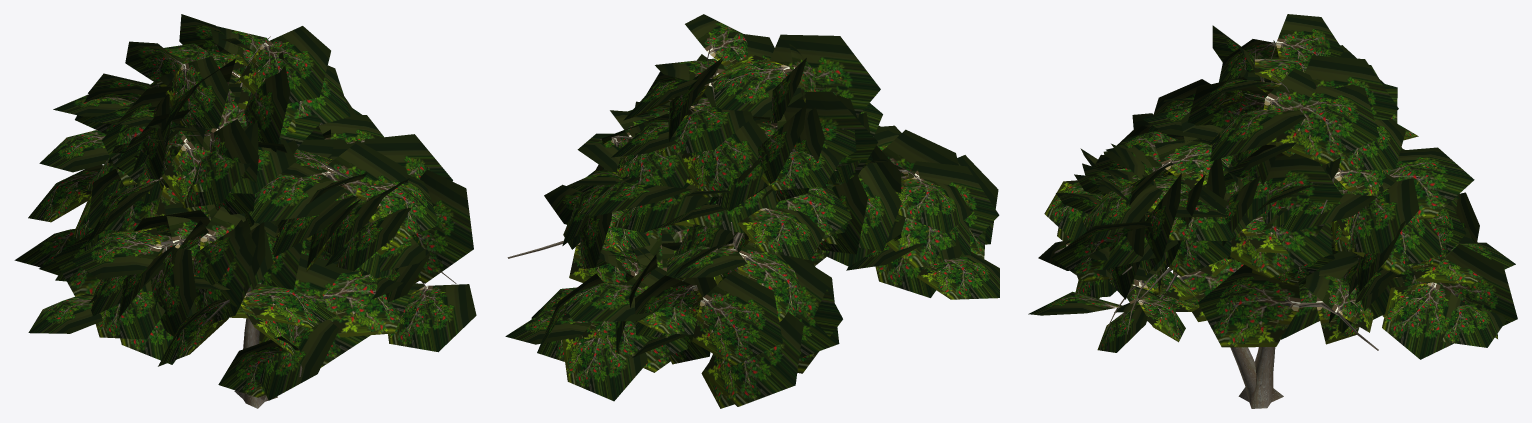
File: holly.glb
3 renders of one model, left to right at view 1: azimuth 30°, elevation 25°; view 2: azimuth 150°, elevation 25°; view 3: azimuth 270°, elevation 25°, orthographic. The views are drawn at different scales.
Visible parts, largest first — view 1: Holly_Tree_1_Holly_Tree_Mat_0.282, Holly_Tree_1_Holly_Tree_Mat_0.137, Holly_Tree_1_Holly_Tree_Mat_0.270, Holly_Tree_1_Holly_Tree_Mat_0.175, Holly_Tree_1_Holly_Tree_Mat_0.176, Holly_Tree_1_Holly_Tree_Mat_0.193, Holly_Tree_1_Holly_Tree_Mat_0.210, Holly_Tree_1_Holly_Tree_Mat_0.132, Holly_Tree_1_Holly_Tree_Mat_0.214, Holly_Tree_1_Holly_Tree_Mat_0.194, Holly_Tree_1_Holly_Tree_Mat_0.184, Holly_Tree_1_Holly_Tree_Mat_0.192 (+60 smaller); view 2: Holly_Tree_1_Holly_Tree_Mat_0.044, Holly_Tree_1_Holly_Tree_Mat_0.042, Holly_Tree_1_Holly_Tree_Mat_0.135, Holly_Tree_1_Holly_Tree_Mat_0.083, Holly_Tree_1_Holly_Tree_Mat_0.133, Holly_Tree_1_Holly_Tree_Mat_0.105, Holly_Tree_1_Holly_Tree_Mat_0.063, Holly_Tree_1_Holly_Tree_Mat_0.210, Holly_Tree_1_Holly_Tree_Mat_0.172, Holly_Tree_1_Holly_Tree_Mat_0.041, Holly_Tree_1_Holly_Tree_Mat_0.119, Holly_Tree_1_Holly_Tree_Mat_0.058 (+52 smaller); view 3: Holly_Tree_1_Holly_Tree_Mat_0.048, Holly_Tree_1_Holly_Tree_Mat_0.136, Holly_Tree_1_Holly_Tree_Mat_0.080, Holly_Tree_1_Holly_Tree_Mat_0.091, Holly_Tree_1_Holly_Tree_Mat_0.095, Holly_Tree_1_Holly_Tree_Mat_0.243, Holly_Tree_1_Holly_Tree_Mat_0.076, Holly_Tree_1_Holly_Tree_Mat_0.248, Holly_Tree_1_Holly_Tree_Mat_0.139, Holly_Tree_1_Holly_Tree_Mat_0.141, Holly_Tree_1_Holly_Tree_Mat_0.134, Holly_Tree_1_Holly_Tree_Mat_0.194 (+54 smaller).
Part boxes in pixels (box(x1,y1,x2,y2)): Holly_Tree_1_Holly_Tree_Mat_0.282: box(388, 284, 476, 352); Holly_Tree_1_Holly_Tree_Mat_0.137: box(239, 26, 330, 103); Holly_Tree_1_Holly_Tree_Mat_0.270: box(411, 169, 473, 283); Holly_Tree_1_Holly_Tree_Mat_0.175: box(323, 259, 413, 337); Holly_Tree_1_Holly_Tree_Mat_0.176: box(259, 319, 339, 400); Holly_Tree_1_Holly_Tree_Mat_0.193: box(248, 173, 346, 223); Holly_Tree_1_Holly_Tree_Mat_0.210: box(72, 227, 161, 279); Holly_Tree_1_Holly_Tree_Mat_0.132: box(165, 56, 229, 128); Holly_Tree_1_Holly_Tree_Mat_0.214: box(151, 247, 196, 339); Holly_Tree_1_Holly_Tree_Mat_0.194: box(356, 174, 436, 238); Holly_Tree_1_Holly_Tree_Mat_0.184: box(243, 284, 335, 328); Holly_Tree_1_Holly_Tree_Mat_0.192: box(321, 141, 408, 243); Holly_Tree_1_Holly_Tree_Mat_0.044: box(692, 271, 782, 365); Holly_Tree_1_Holly_Tree_Mat_0.042: box(704, 312, 803, 406); Holly_Tree_1_Holly_Tree_Mat_0.135: box(770, 34, 880, 114); Holly_Tree_1_Holly_Tree_Mat_0.083: box(562, 335, 647, 401); Holly_Tree_1_Holly_Tree_Mat_0.133: box(712, 54, 805, 117); Holly_Tree_1_Holly_Tree_Mat_0.105: box(681, 118, 767, 197); Holly_Tree_1_Holly_Tree_Mat_0.063: box(737, 208, 824, 259); Holly_Tree_1_Holly_Tree_Mat_0.210: box(895, 177, 971, 233); Holly_Tree_1_Holly_Tree_Mat_0.172: box(917, 252, 999, 299); Holly_Tree_1_Holly_Tree_Mat_0.041: box(780, 254, 839, 358); Holly_Tree_1_Holly_Tree_Mat_0.119: box(660, 106, 752, 156); Holly_Tree_1_Holly_Tree_Mat_0.058: box(825, 162, 901, 251); Holly_Tree_1_Holly_Tree_Mat_0.048: box(1198, 264, 1300, 347); Holly_Tree_1_Holly_Tree_Mat_0.136: box(1275, 84, 1379, 164); Holly_Tree_1_Holly_Tree_Mat_0.080: box(1382, 282, 1465, 359); Holly_Tree_1_Holly_Tree_Mat_0.091: box(1331, 178, 1419, 253); Holly_Tree_1_Holly_Tree_Mat_0.095: box(1389, 147, 1474, 219); Holly_Tree_1_Holly_Tree_Mat_0.243: box(1230, 222, 1331, 278); Holly_Tree_1_Holly_Tree_Mat_0.076: box(1435, 244, 1517, 325); Holly_Tree_1_Holly_Tree_Mat_0.248: box(1266, 153, 1342, 237); Holly_Tree_1_Holly_Tree_Mat_0.139: box(1304, 55, 1398, 120); Holly_Tree_1_Holly_Tree_Mat_0.141: box(1210, 109, 1306, 161); Holly_Tree_1_Holly_Tree_Mat_0.134: box(1276, 14, 1343, 63); Holly_Tree_1_Holly_Tree_Mat_0.194: box(1082, 182, 1163, 243).
Bounding box in the file's own units: 6.38 × 5.35 × 6.82.
2 materials, 2 textured.
